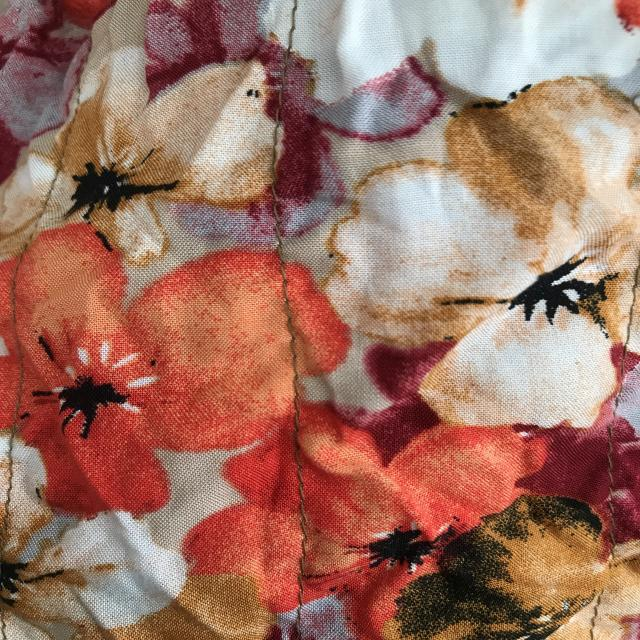good: (267, 263, 310, 427), (282, 456, 324, 604)
